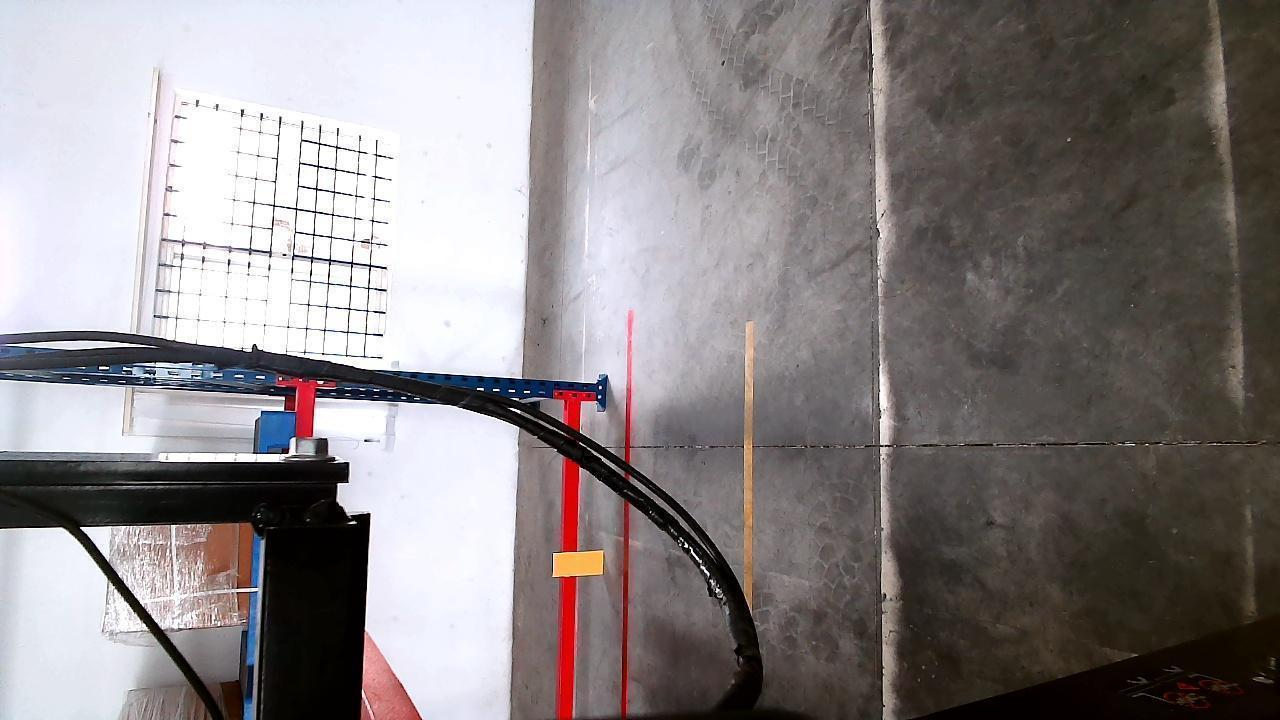red_line: (619, 312, 637, 713)
yellow_line: (739, 327, 756, 609)
